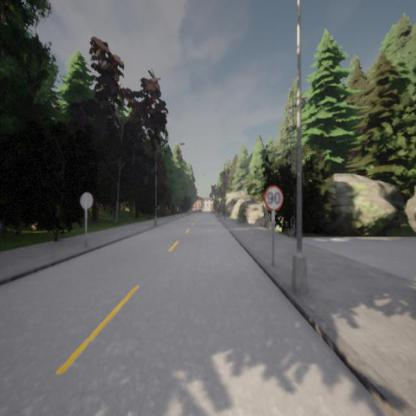traffic_sign_90: (264, 186, 284, 210)
